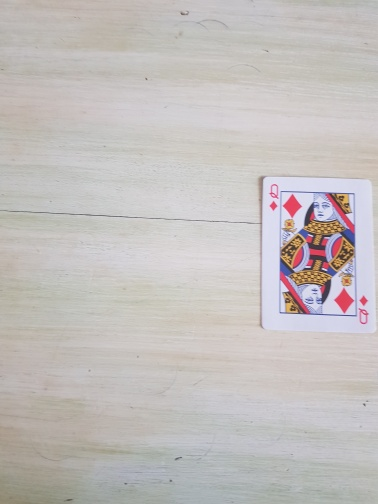queen: (260, 176, 377, 334)
